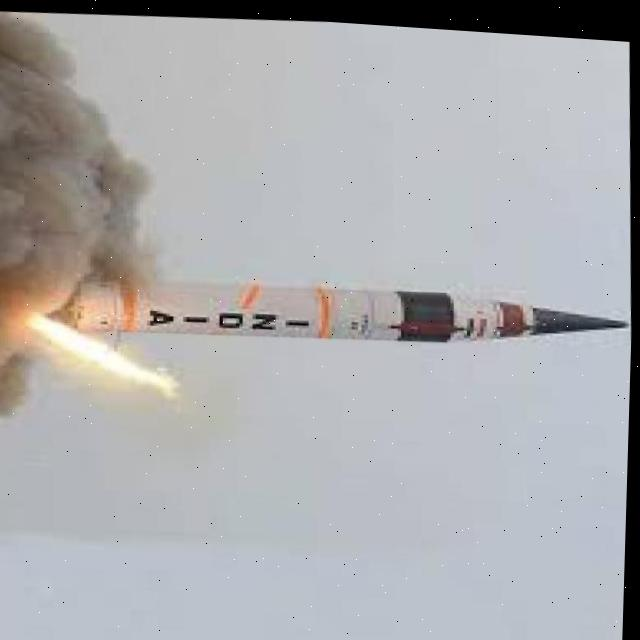missile: (58, 253, 634, 387)
